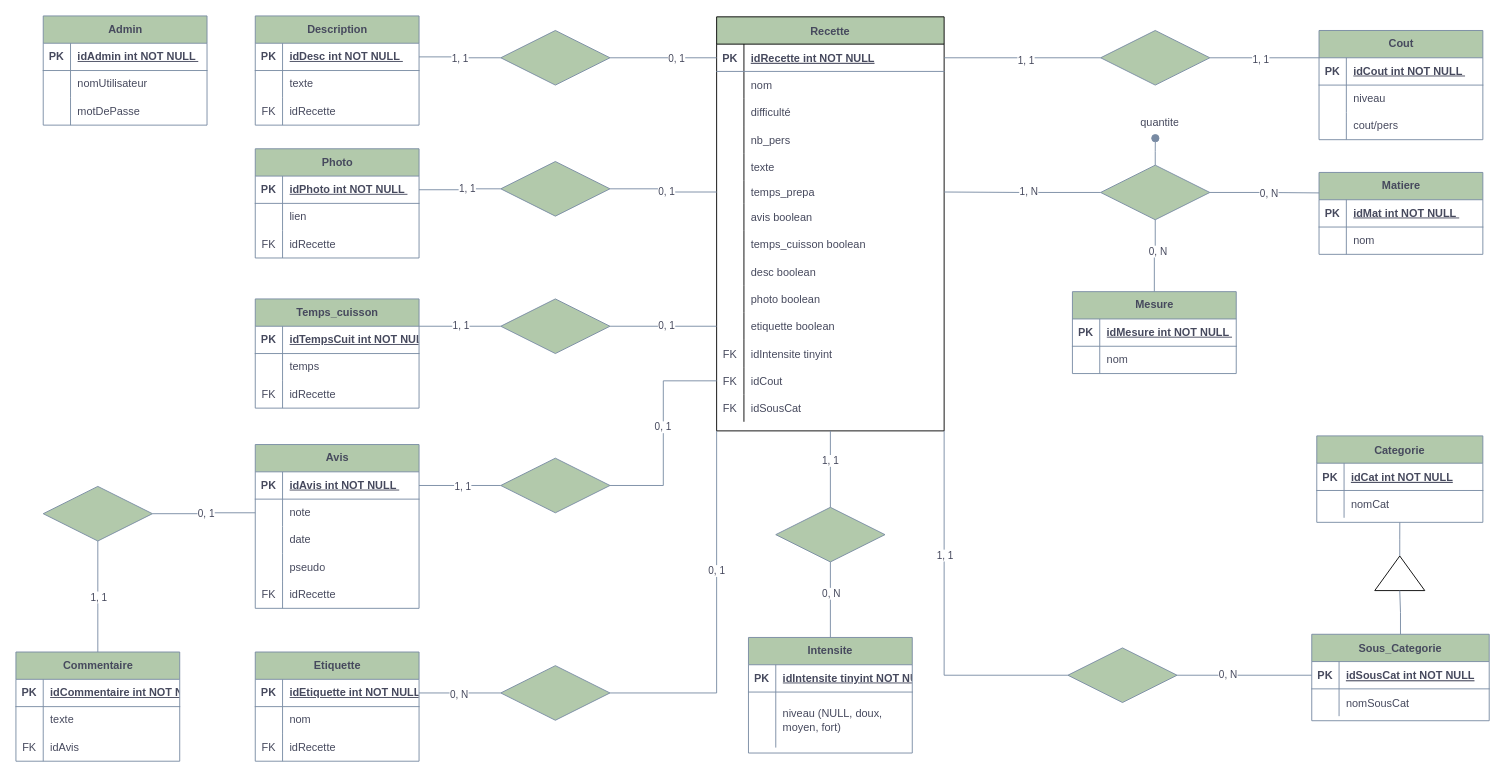
Some shapes in this 1505 by 777 pixel diagram are drawn without their labels. Each missing label, with the centre of its shape:
"Concerne" belongs at (x=1122, y=675).
"Coute" belongs at (x=1155, y=57).
"Ingredient" belongs at (x=1155, y=192).
"isa" belongs at (x=1399, y=573).
